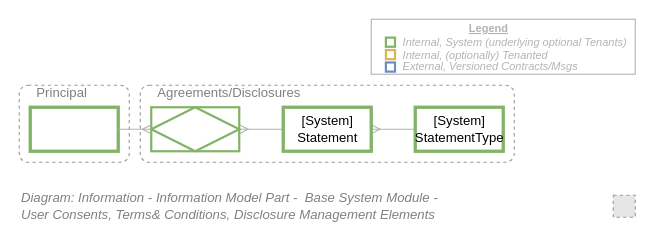
Image size: 655x241. Some labels were removed from this diagram. Grey dashed boxes stand in for pictures. The box of each missing label's shape, as (x1, y1, x2, y2) in pixels:
[System] Principal: (28, 105, 119, 152)
[System] Statement Assignment: (150, 106, 240, 152)
